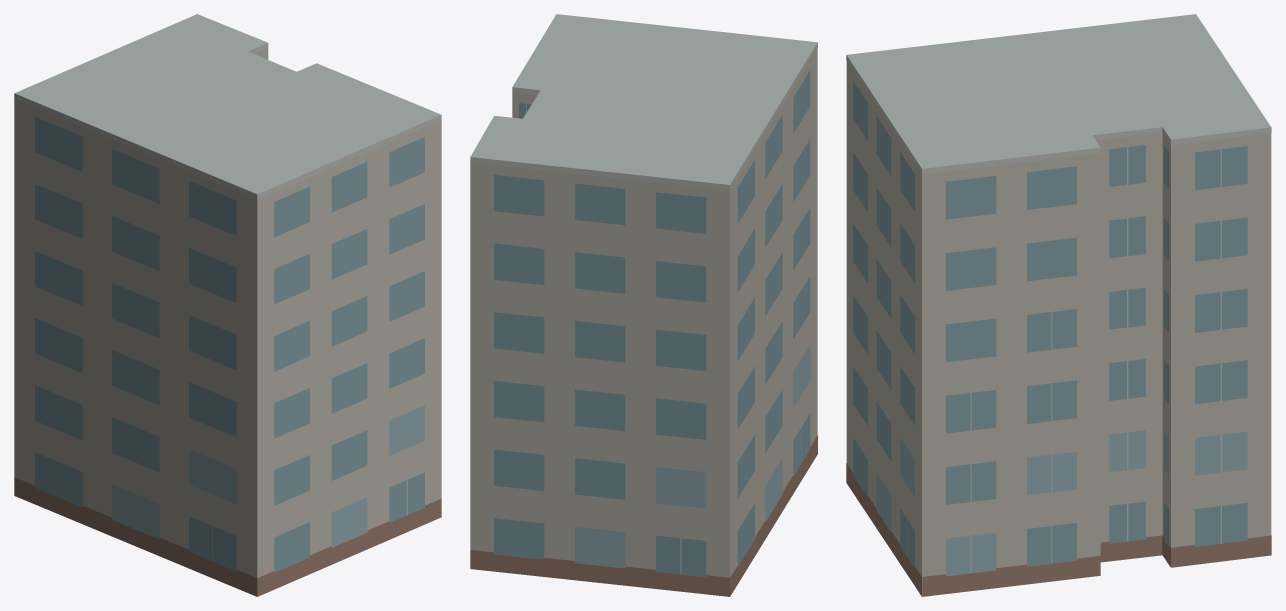
The model's file is survey-upis-33042319.glb.
3 views of the same model, side by side, from view 1: azimuth 30°, elevation 25°; view 2: azimuth 150°, elevation 25°; view 3: azimuth 270°, elevation 25° (orthographic). The views are drawn at different scales.
Visible parts, largest first — view 1: survey-upis-33042319.tmp; view 2: survey-upis-33042319.tmp; view 3: survey-upis-33042319.tmp.
Boxes of the visible parts, x1,y1,x2,y2 form: survey-upis-33042319.tmp: (14,14,441,596); survey-upis-33042319.tmp: (470,14,817,596); survey-upis-33042319.tmp: (846,14,1271,596).
Size of the model in its own units: 14.36 by 18.5 by 16.66.
